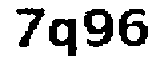6: (117, 7, 151, 55)
7: (10, 5, 45, 51)
9: (84, 7, 116, 52)
q: (47, 16, 81, 60)
